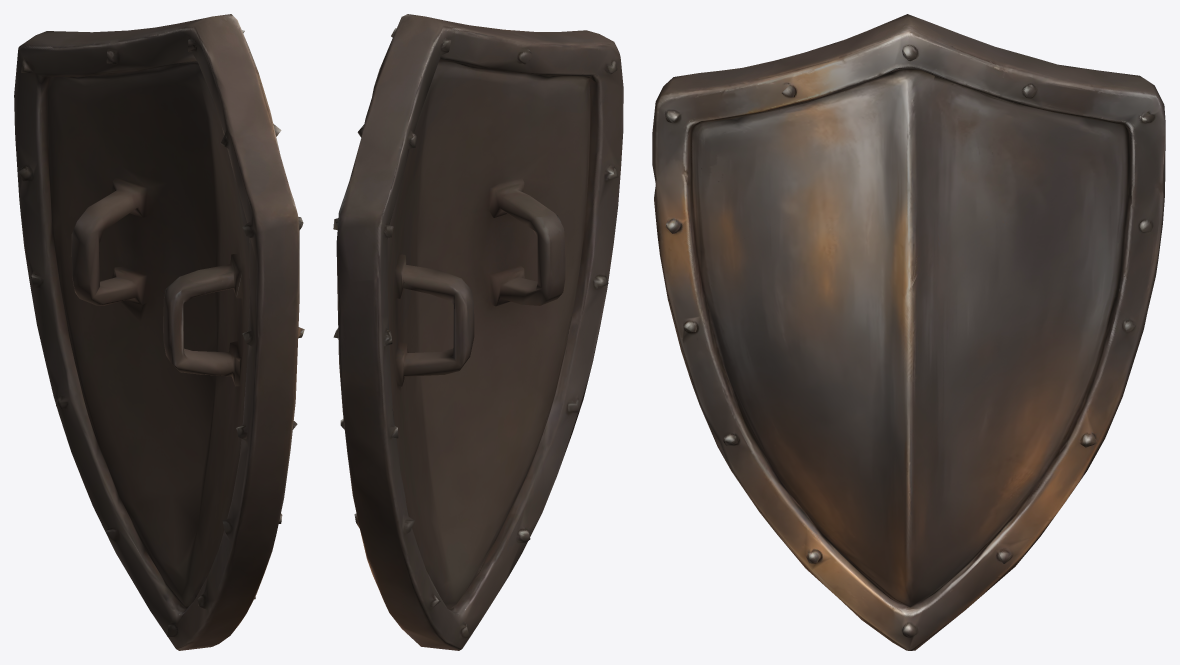
Rendered from escudo-metal.glb.
3 views of the same model, side by side, from view 1: azimuth 30°, elevation 25°; view 2: azimuth 150°, elevation 25°; view 3: azimuth 270°, elevation 25° (orthographic).
Parts seen in each view (by area): view 1: tripo_node_9f1a8208-6eaa-41c3-9a00-87e58024f255; view 2: tripo_node_9f1a8208-6eaa-41c3-9a00-87e58024f255; view 3: tripo_node_9f1a8208-6eaa-41c3-9a00-87e58024f255.
Boxes of the visible parts, bbox=[...] form: tripo_node_9f1a8208-6eaa-41c3-9a00-87e58024f255: bbox=[14, 14, 304, 650]; tripo_node_9f1a8208-6eaa-41c3-9a00-87e58024f255: bbox=[333, 14, 623, 650]; tripo_node_9f1a8208-6eaa-41c3-9a00-87e58024f255: bbox=[652, 14, 1165, 650].
Bounding box in the file's own units: 0.1154 × 0.5 × 0.3674.
1 material, 1 textured.
